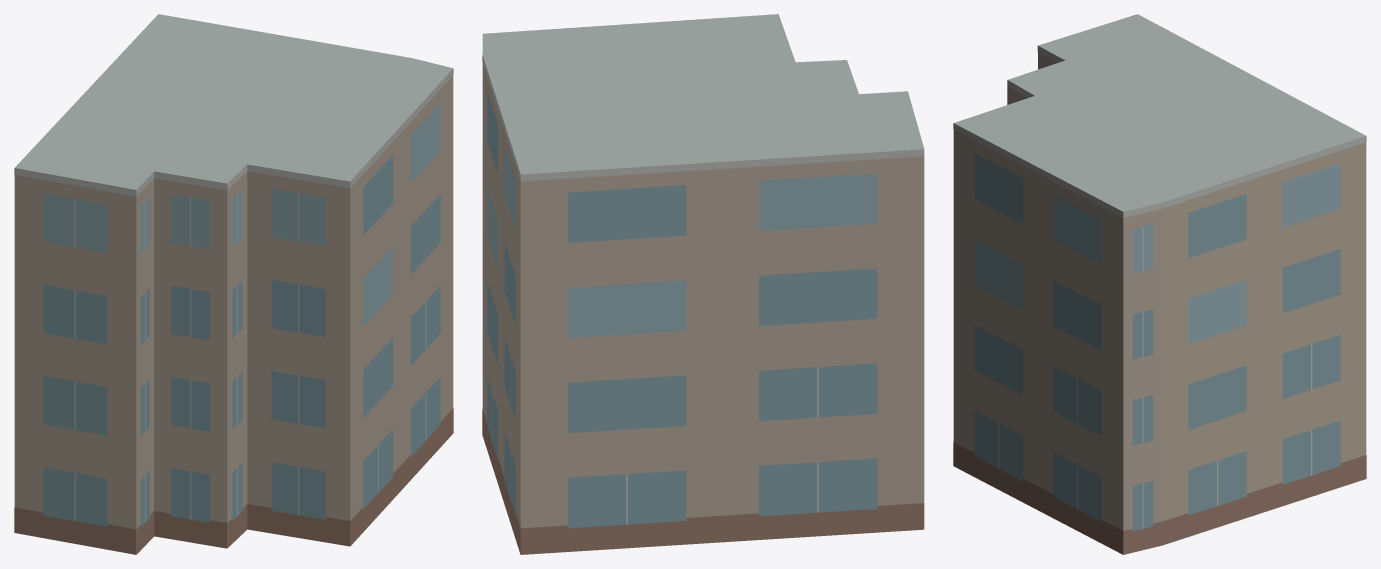
File: survey-upis-32842411.glb
3 views of the same model, side by side, from view 1: azimuth 30°, elevation 25°; view 2: azimuth 150°, elevation 25°; view 3: azimuth 270°, elevation 25° (orthographic). The views are drawn at different scales.
Parts seen in each view (by area): view 1: survey-upis-32842411.tmp; view 2: survey-upis-32842411.tmp; view 3: survey-upis-32842411.tmp.
Part boxes in pixels (x1,y1,x2,y2): survey-upis-32842411.tmp: (14, 14, 453, 554); survey-upis-32842411.tmp: (482, 14, 924, 554); survey-upis-32842411.tmp: (953, 14, 1366, 554).
Bounding box in the file's own units: 16.4 × 13.25 × 14.46.
